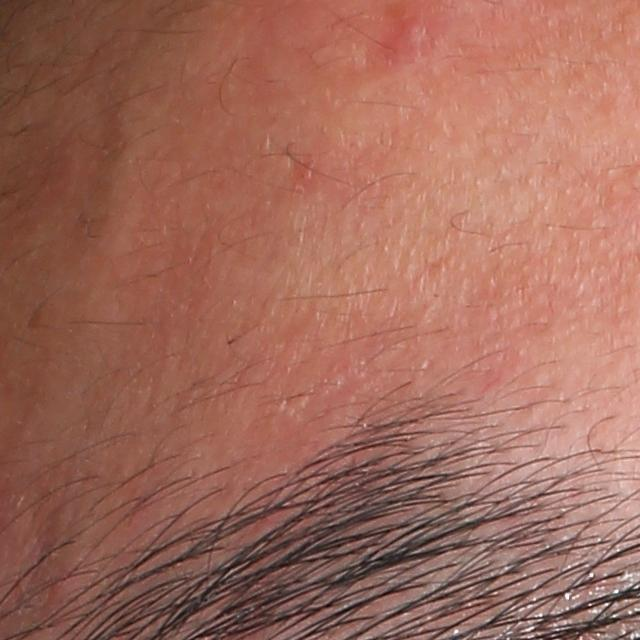papule: (394, 4, 436, 57)
